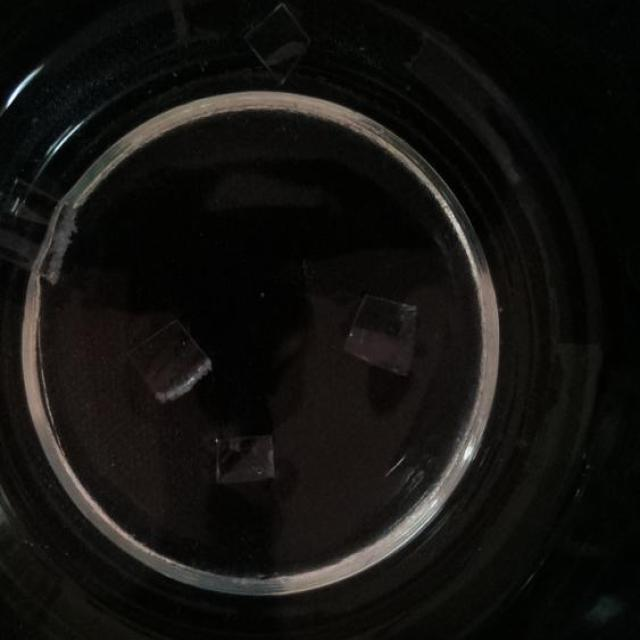fiber: (0, 176, 80, 290), (124, 317, 217, 408), (341, 291, 424, 381), (239, 0, 315, 88), (213, 430, 276, 490)
